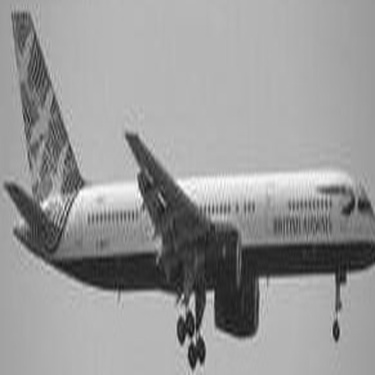airplane: (1, 12, 366, 358)
